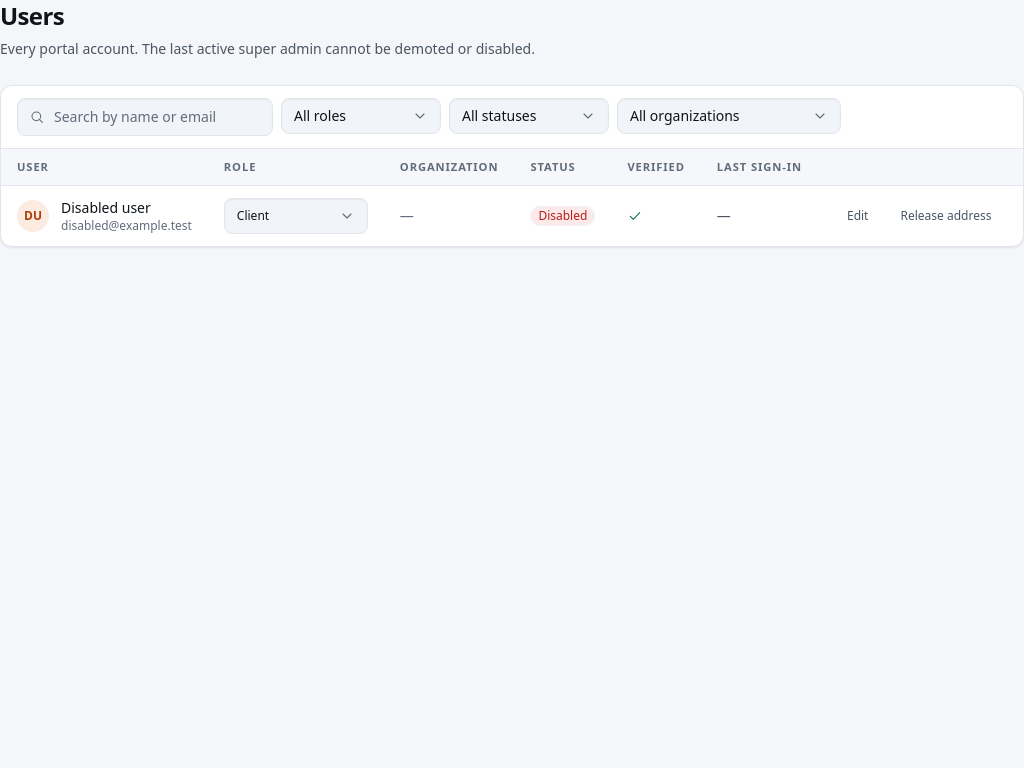
squatted address recovery › requires reviewed link removal before releasing the disabled account address
This screenshot has width=1024, height=768.
Click the button "Release address" at (946, 216), box [888,200,1004,232]
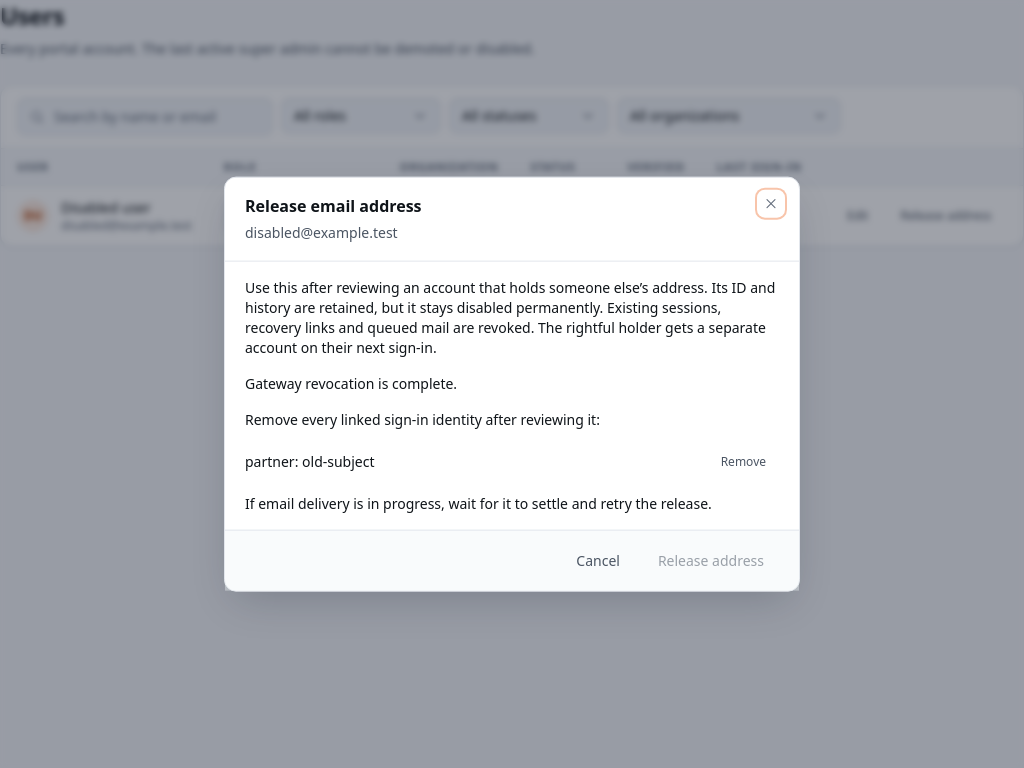
Now the button "Release address" is disabled, box [643,542,779,578]
Click the button "Remove" at (743, 461), box [708,445,779,477]
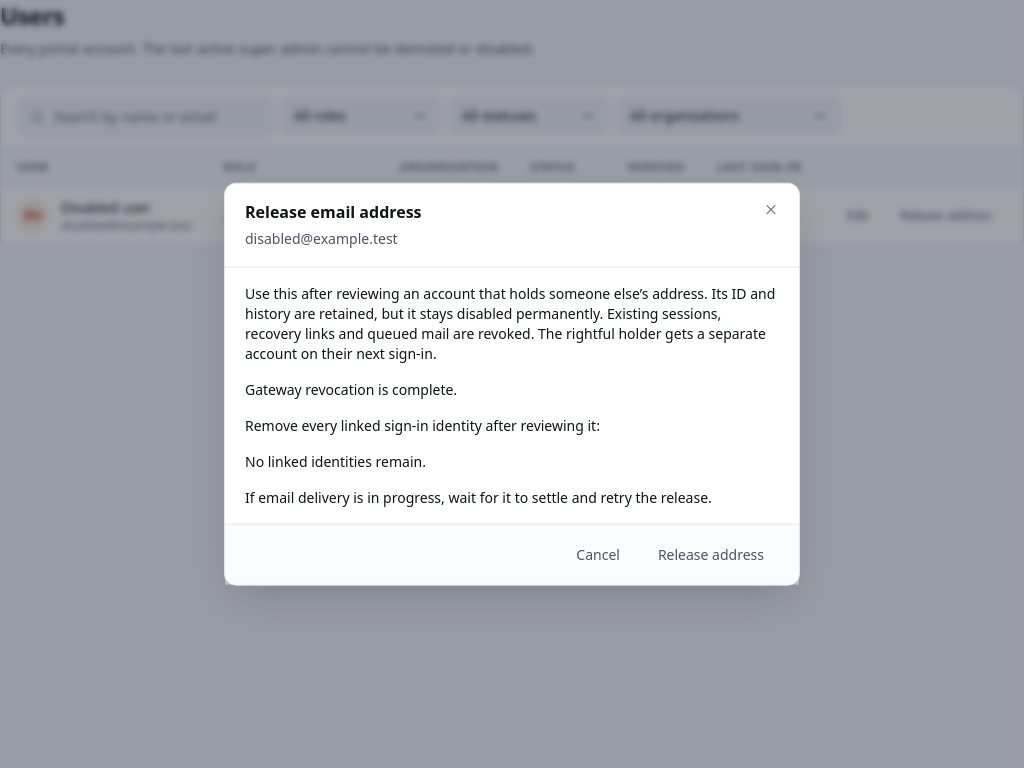
Now the button "Release address" is enabled
Click the button "Release address" at (711, 554), box [643,536,779,572]
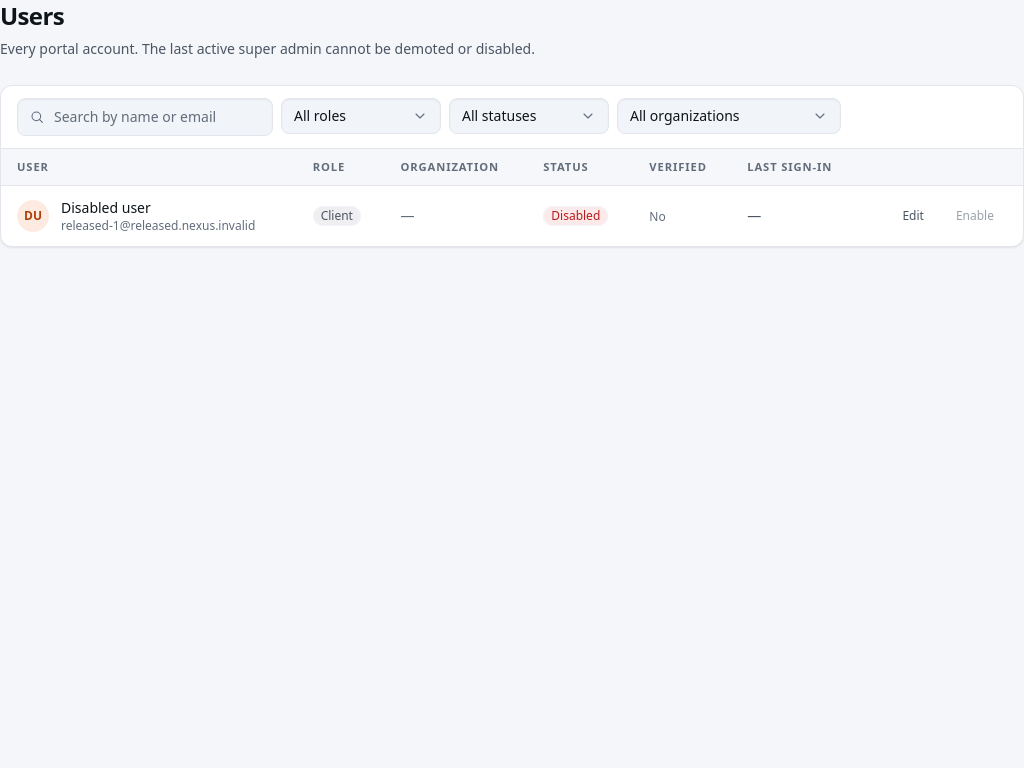
Now the text "released-1@released.nexus.invalid" is shown, box [61,218,255,234]
Now the button "Enable" is disabled, box [943,200,1007,232]
Now the button "Release address" is gone
